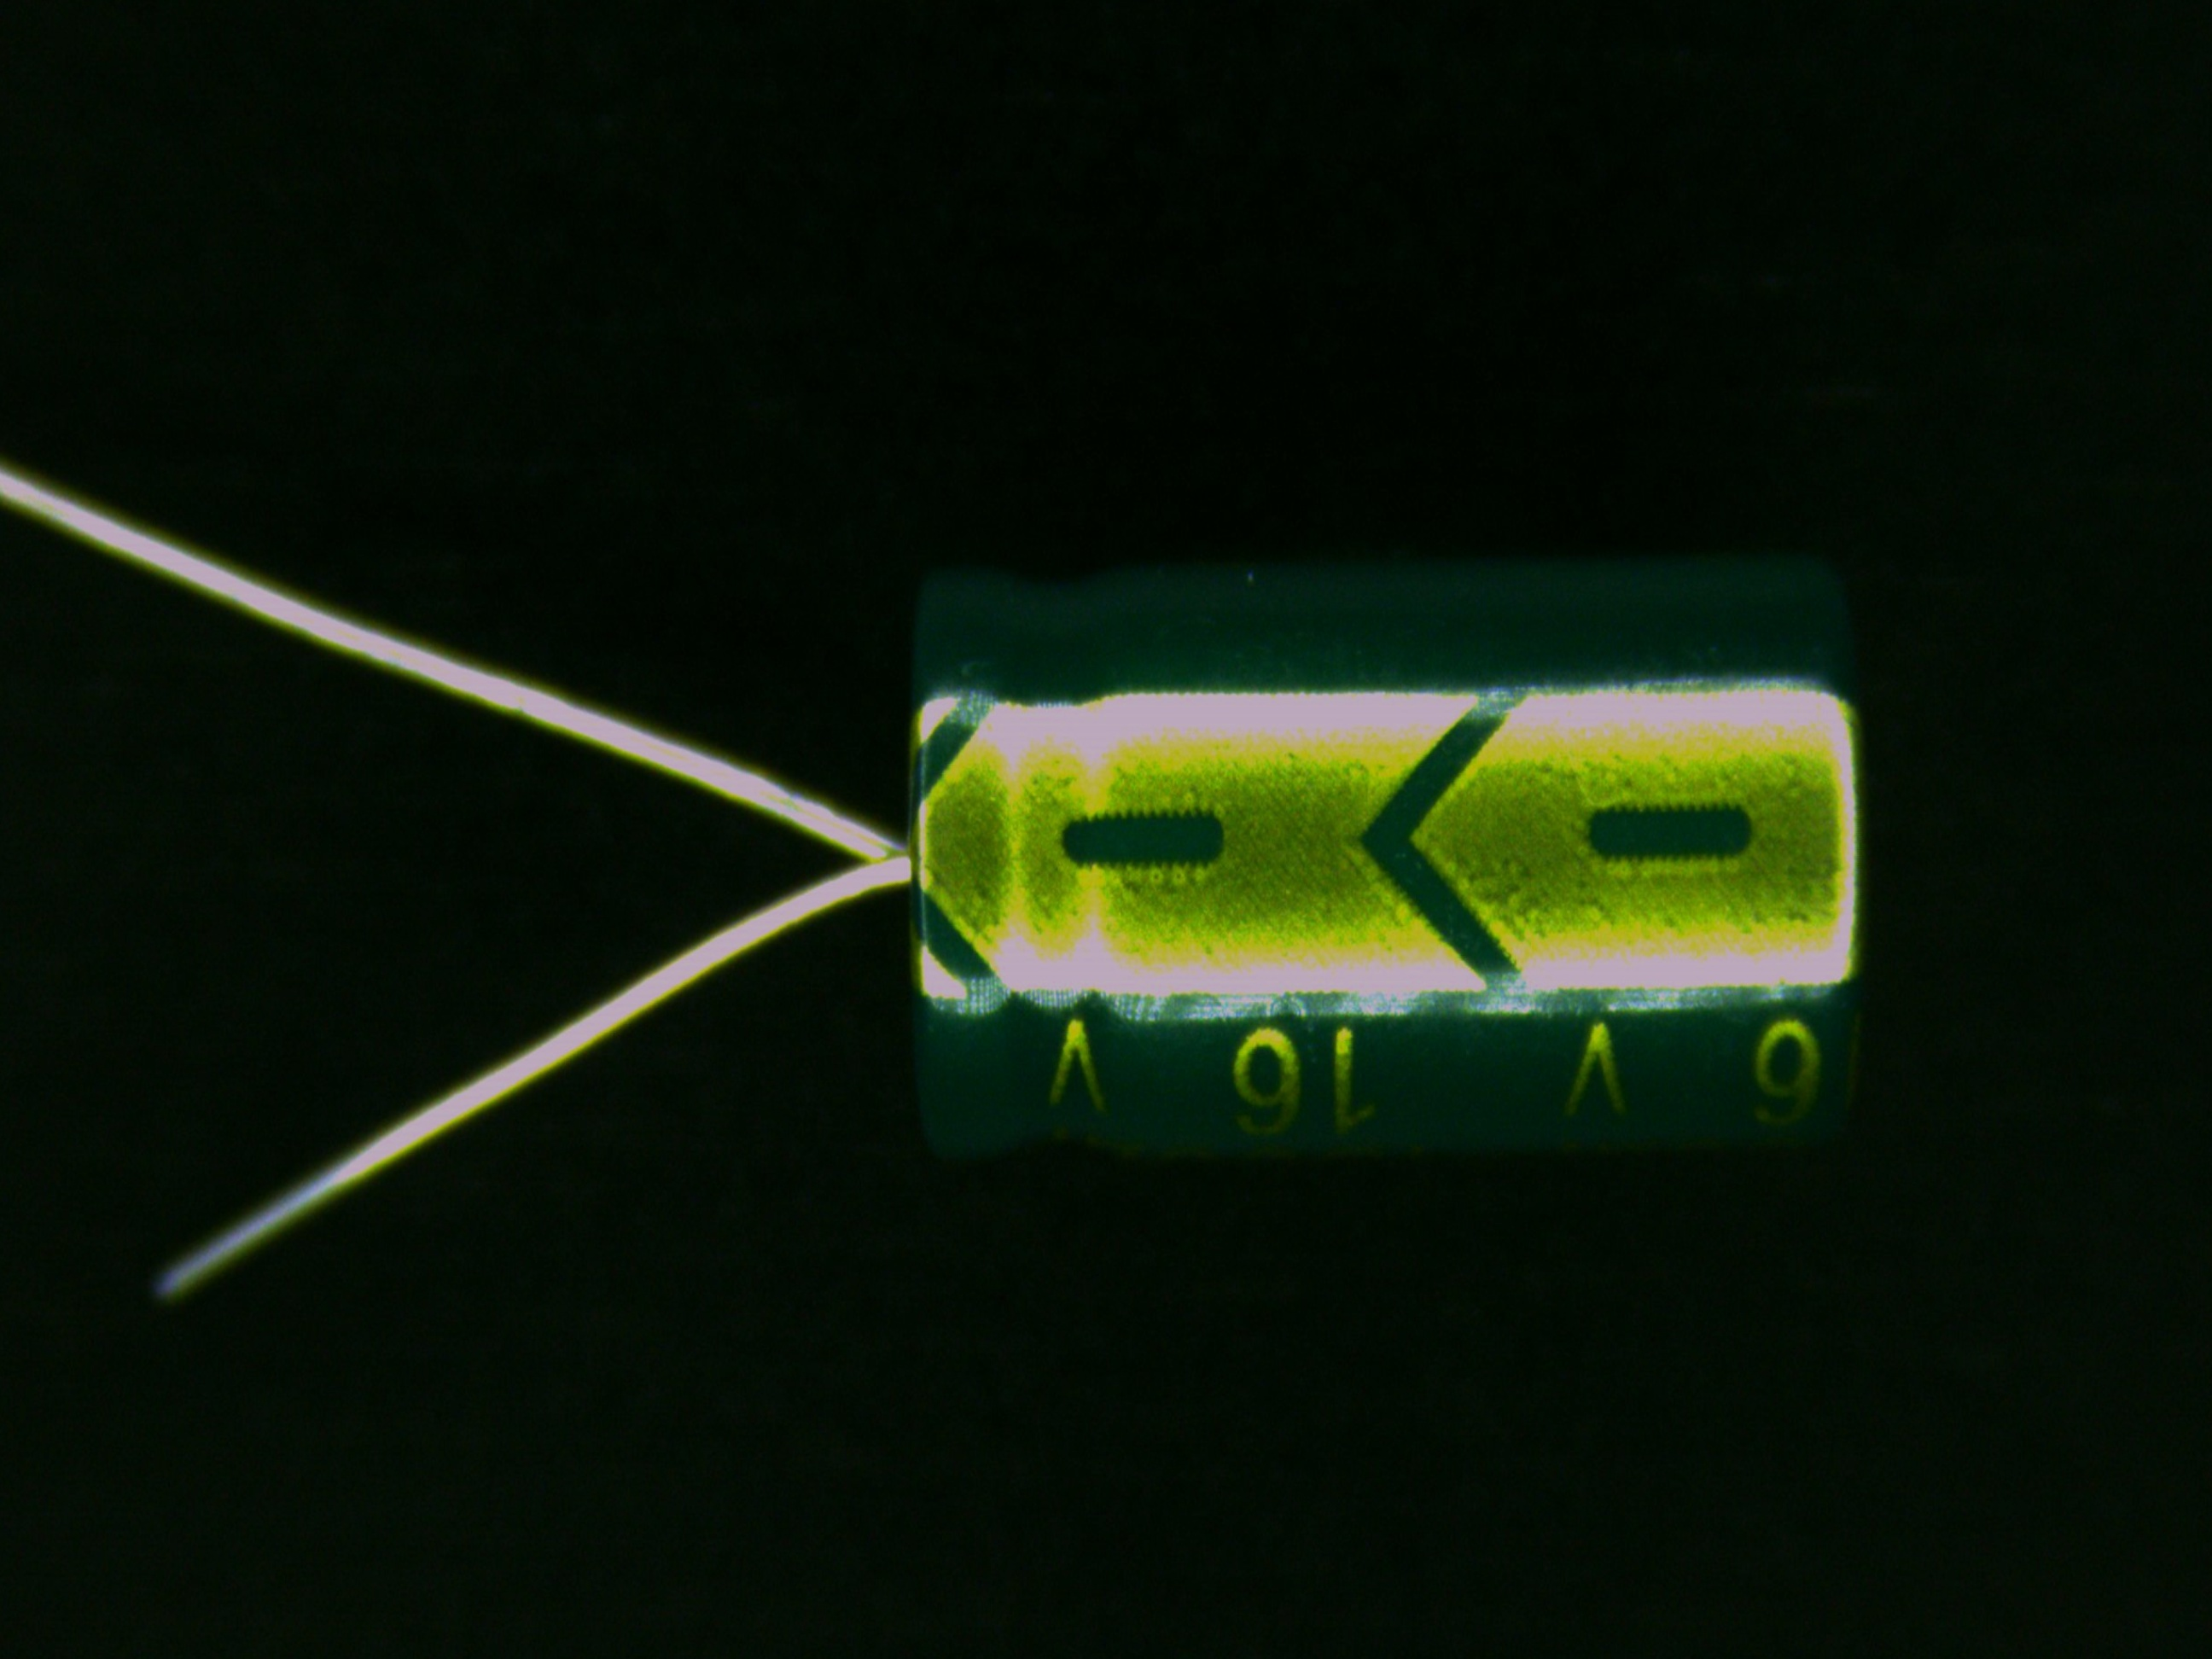c1: (651, 545, 1865, 1169)
